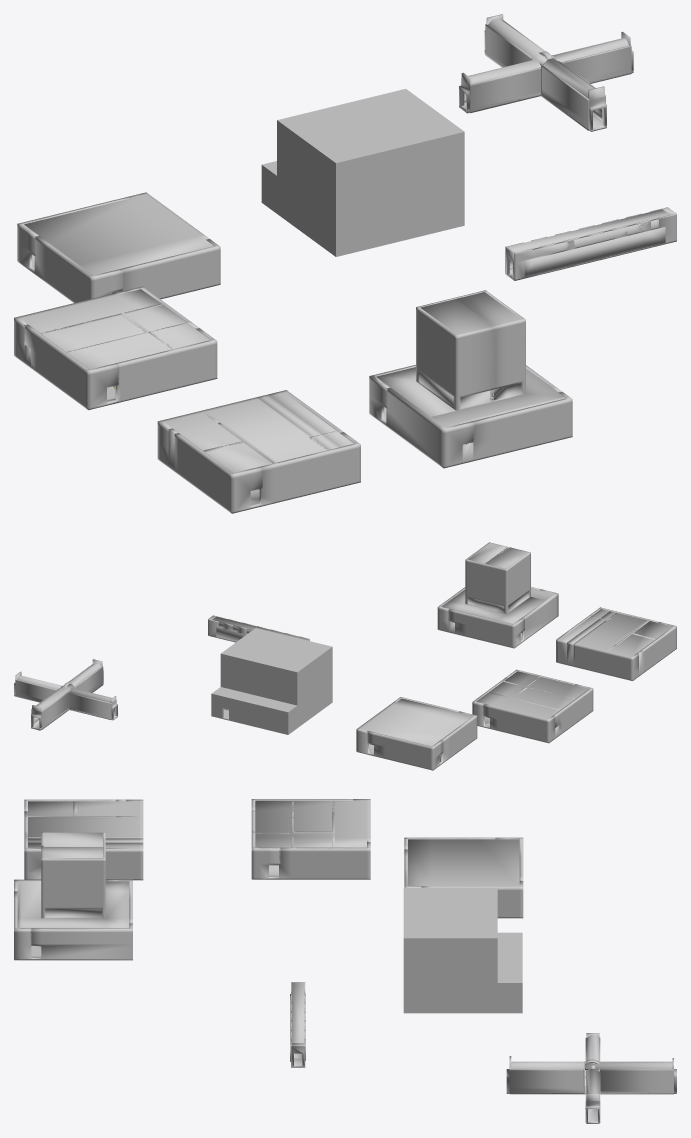
Rendered from CORRIDOR2house5.fbx.
3 renders of one model, top to bottom at view 1: azimuth 30°, elevation 25°; view 2: azimuth 150°, elevation 25°; view 3: azimuth 270°, elevation 25°, orthographic. The views are drawn at different scales.
Visible parts, largest first — view 1: Box008.002, Box010.002, Box007.002, Box009.002, Box003.002, Box002.004, Box011.001, Box002.005; view 2: Box008.002, Box010.002, Box003.002, Box007.002, Box009.002, Box011.001, Box002.005, Box002.004; view 3: Box008.002, Box010.002, Box009.002, Box003.002, Box007.002, Box002.005, Box002.004, Box011.001.
Boxes of the visible parts, left/top/right/bottom form: Box008.002: left=261, top=89, right=464, bottom=256; Box010.002: left=369, top=290, right=572, bottom=468; Box007.002: left=157, top=390, right=360, bottom=513; Box009.002: left=14, top=286, right=217, bottom=410; Box003.002: left=17, top=192, right=220, bottom=302; Box002.004: left=505, top=207, right=676, bottom=280; Box011.001: left=459, top=31, right=633, bottom=113; Box002.005: left=484, top=14, right=606, bottom=131; Box008.002: left=211, top=628, right=332, bottom=734; Box010.002: left=437, top=542, right=558, bottom=648; Box003.002: left=356, top=697, right=477, bottom=770; Box007.002: left=556, top=607, right=676, bottom=680; Box009.002: left=472, top=669, right=593, bottom=743; Box011.001: left=14, top=671, right=117, bottom=720; Box002.005: left=31, top=659, right=103, bottom=730; Box002.004: left=208, top=615, right=309, bottom=642; Box008.002: left=403, top=888, right=522, bottom=1013; Box010.002: left=14, top=832, right=132, bottom=960; Box009.002: left=251, top=799, right=370, bottom=879; Box003.002: left=404, top=837, right=523, bottom=918; Box007.002: left=24, top=799, right=143, bottom=880; Box002.005: left=506, top=1056, right=676, bottom=1094; Box002.004: left=290, top=982, right=305, bottom=1067; Box011.001: left=585, top=1033, right=600, bottom=1123.
Bounding box in the file's own units: 10111 × 1437 × 9617.
